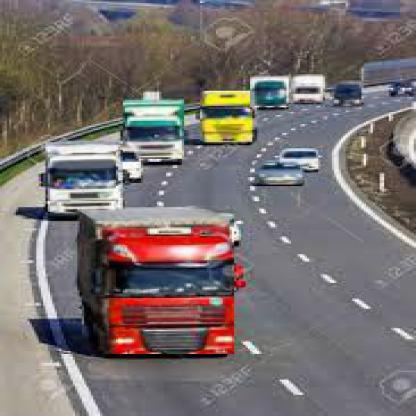car: (256, 163, 306, 188), (331, 80, 365, 108), (281, 149, 322, 169)
truck: (83, 210, 237, 356), (47, 143, 119, 214), (124, 98, 187, 161), (201, 92, 256, 145), (251, 75, 292, 110), (290, 74, 326, 106)
